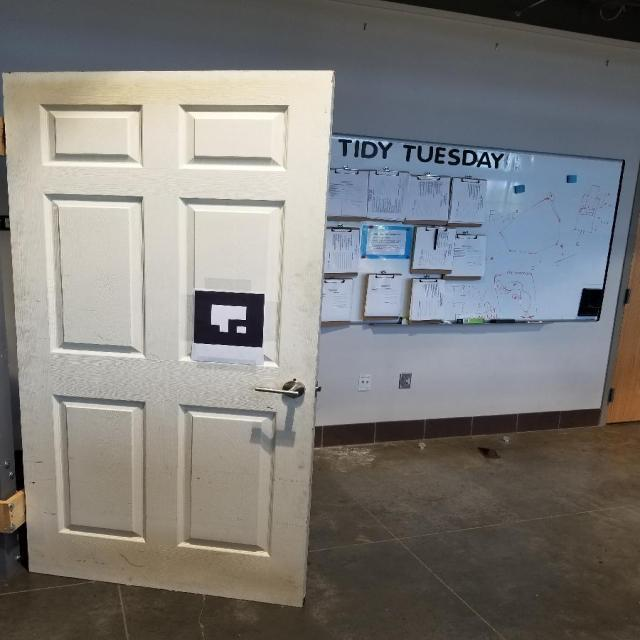door: (25, 68, 338, 609), (251, 374, 314, 402)
